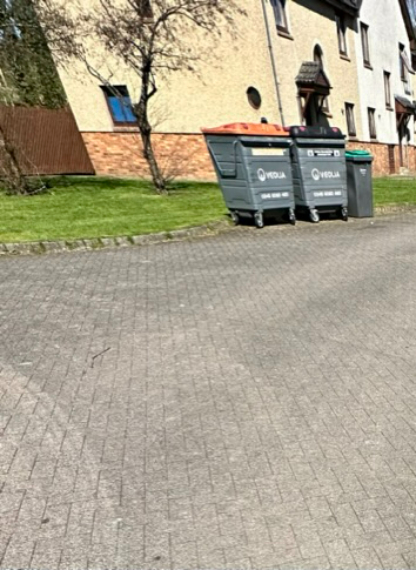tree: (9, 0, 229, 183)
